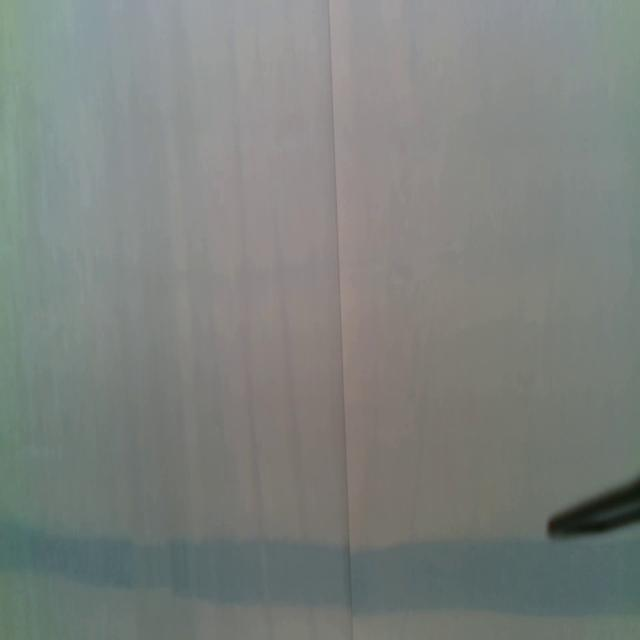color bleeding: (0, 512, 545, 616)
crease: (327, 0, 355, 640)
